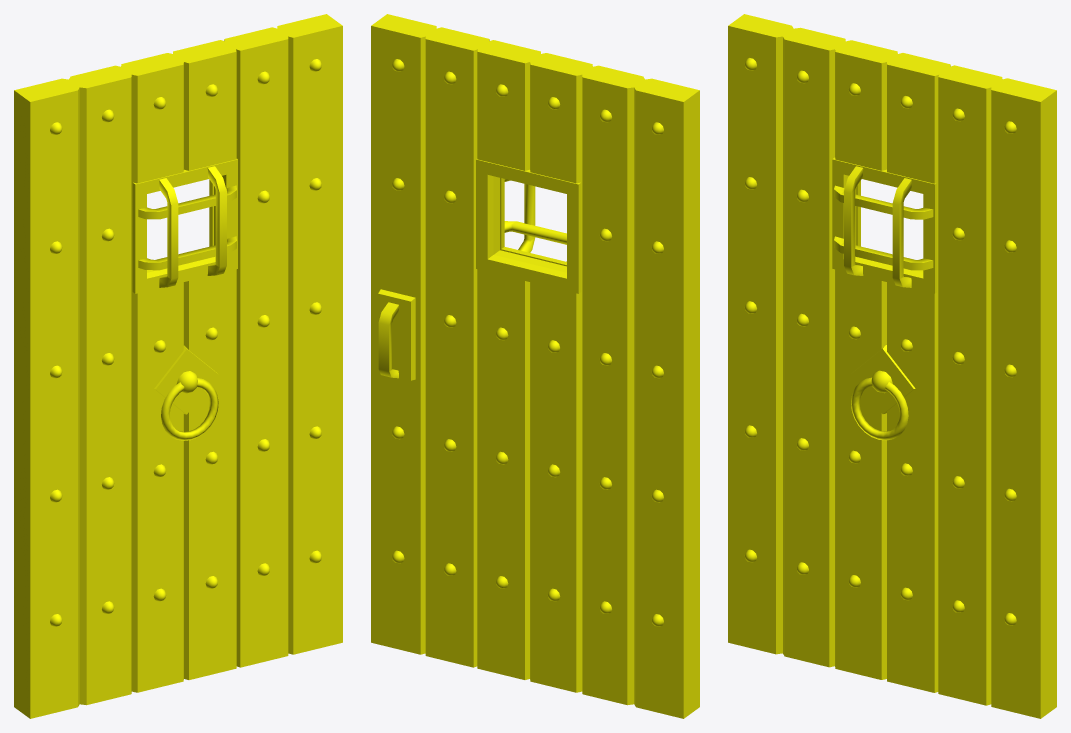
File: door-2-flat.glb
3 views of the same model, side by side, from view 1: azimuth 30°, elevation 25°; view 2: azimuth 150°, elevation 25°; view 3: azimuth 330°, elevation 25° (orthographic).
Parts seen in each view (by area): view 1: Door_2_Flat; view 2: Door_2_Flat; view 3: Door_2_Flat.
Boxes of the visible parts, left/top/right/bottom form: Door_2_Flat: left=14, top=14, right=342, bottom=718; Door_2_Flat: left=371, top=14, right=699, bottom=718; Door_2_Flat: left=728, top=14, right=1056, bottom=718.
Bounding box in the file's own units: 1.11 × 2.1 × 0.2609.
Materials: 2 (2 with a texture image).
